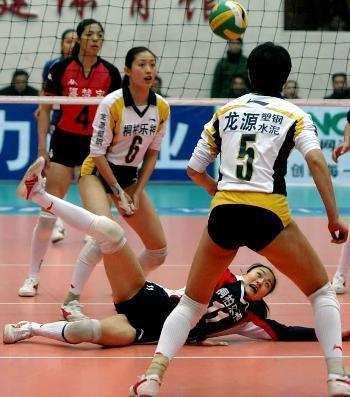Fall-Detected: (4, 157, 350, 345)
